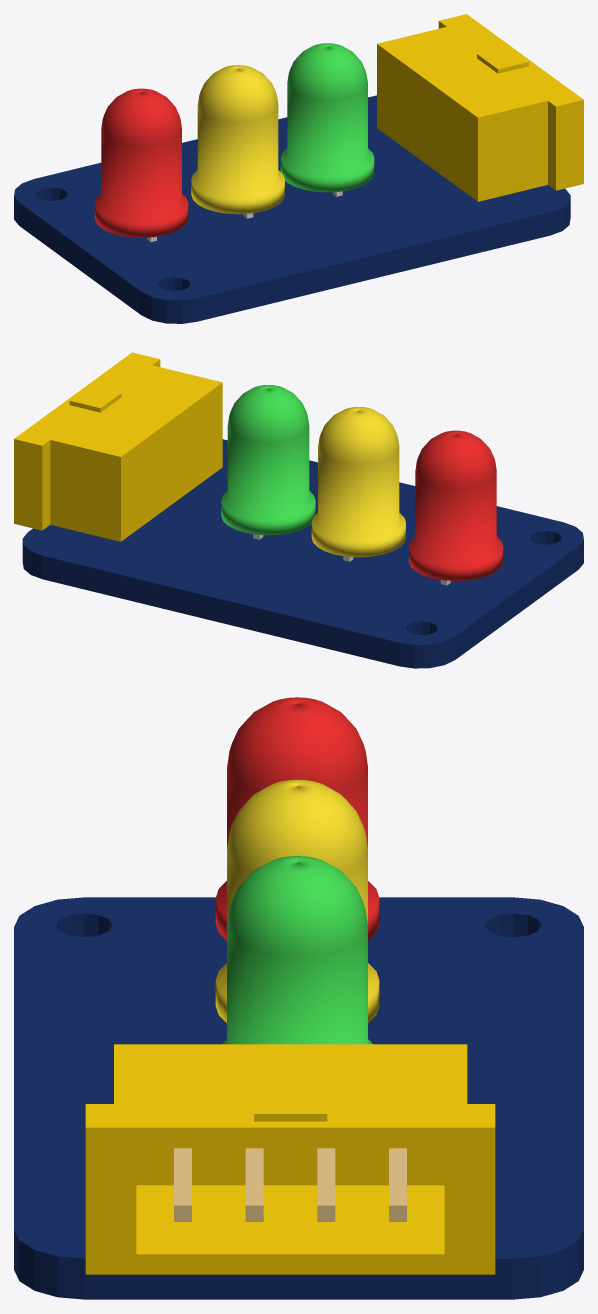
Rendered from traffic.glb.
3 views of the same model, one above another, from view 1: azimuth 30°, elevation 25°; view 2: azimuth 150°, elevation 25°; view 3: azimuth 270°, elevation 25° (orthographic). The views are drawn at different scales.
Visible parts, largest first — view 1: traffic_pcb, traffic_xh, traffic_led_yellow, traffic_led_red, traffic_led_green; view 2: traffic_pcb, traffic_xh, traffic_led_green, traffic_led_red, traffic_led_yellow; view 3: traffic_pcb, traffic_xh, traffic_led_green, traffic_led_red, traffic_led_yellow, traffic.
Part boxes in pixels (x1,y1,x2,y2): traffic_pcb: (14,95,570,323); traffic_xh: (377,14,583,201); traffic_led_yellow: (191,65,284,214); traffic_led_red: (94,88,188,237); traffic_led_green: (280,43,374,192); traffic_pcb: (22,439,583,668); traffic_xh: (14,352,222,541); traffic_led_green: (221,385,315,535); traffic_led_red: (409,430,503,580); traffic_led_yellow: (311,407,405,557); traffic_pcb: (14,897,583,1299); traffic_xh: (85,1044,495,1274); traffic_led_green: (222,856,372,1044); traffic_led_red: (215,697,379,940); traffic_led_yellow: (215,779,379,1023); traffic: (174,1148,406,1221).
Bounding box in the file's own units: 0.0317 × 0.0112 × 0.0202.
